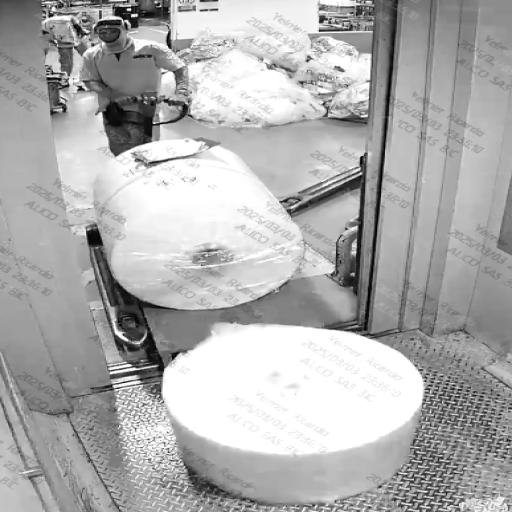rollos caidos: (60, 131, 476, 512)
